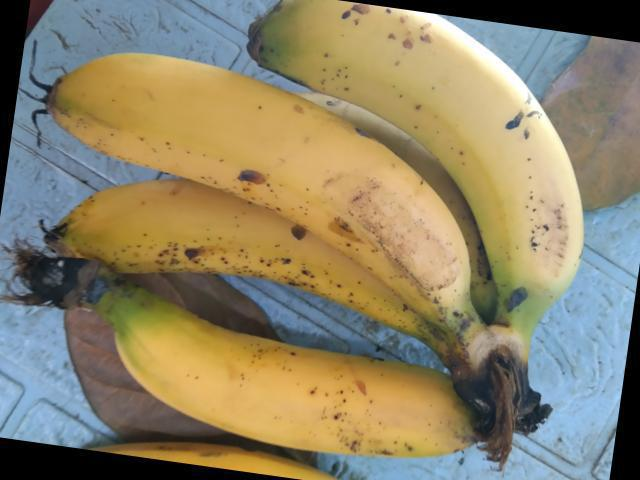ripe: (21, 42, 492, 336), (263, 0, 597, 306), (67, 280, 473, 463), (28, 189, 465, 328)
